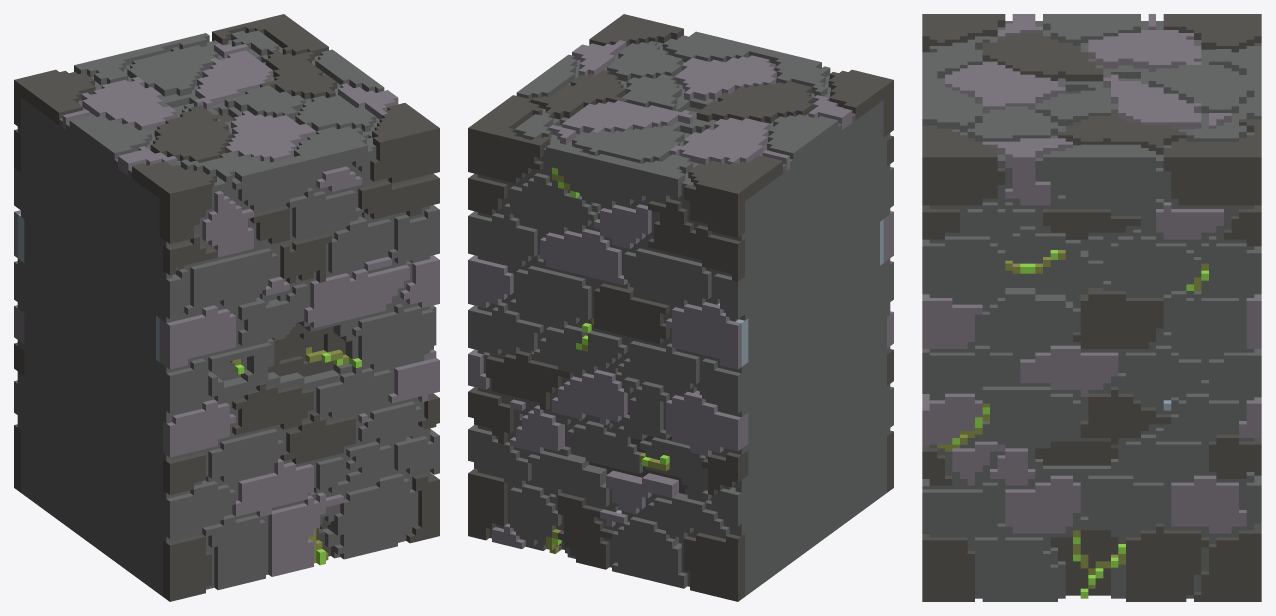
The model's file is Wall.obj.
3 renders of one model, left to right at view 1: azimuth 30°, elevation 25°; view 2: azimuth 150°, elevation 25°; view 3: azimuth 270°, elevation 25°, orthographic. The views are drawn at different scales.
Size of the model in its own units: 45 by 65 by 45.
Materials: 1 (1 with a texture image).
